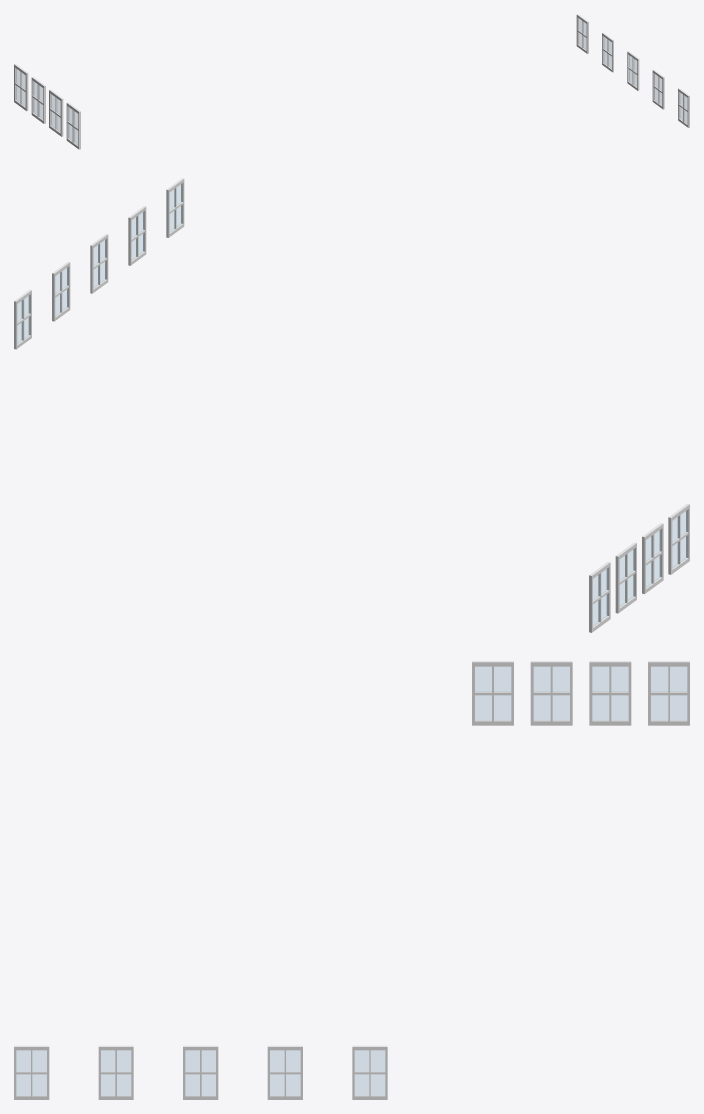
Rendered from 鲸鱼馆大厅.fbx_窗户.fbx.
3 views of the same model, one above another, from view 1: azimuth 30°, elevation 25°; view 2: azimuth 150°, elevation 25°; view 3: azimuth 270°, elevation 25° (orthographic). The views are drawn at different scales.
Parts seen in each view (by area): view 1: 窗户1, 窗户2; view 2: 窗户1, 窗户2; view 3: 窗户1, 窗户2.
Part boxes in pixels (x1,y1,x2,y2): 窗户1: [14, 64, 80, 149]; 窗户2: [576, 14, 689, 127]; 窗户1: [589, 503, 689, 632]; 窗户2: [14, 178, 184, 349]; 窗户1: [472, 661, 689, 725]; 窗户2: [14, 1045, 387, 1099].
Bounding box in the file's own units: 5211 × 403 × 3848.
